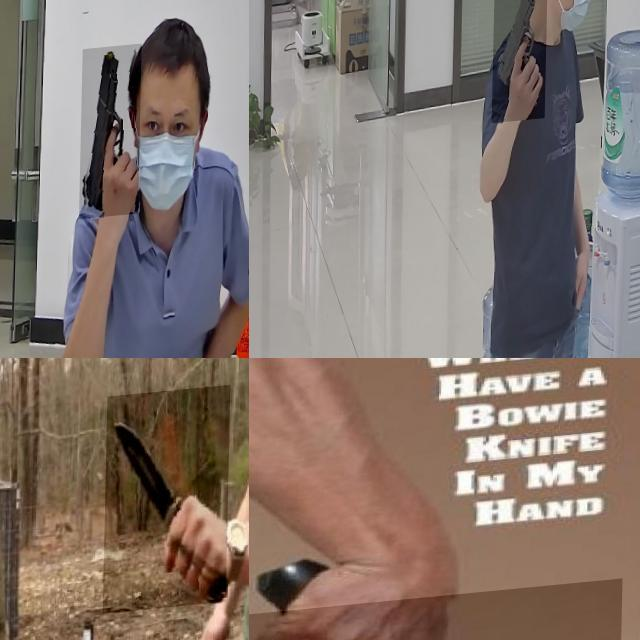-: (105, 390, 232, 617)
gun-knife-thesis - v11 Yolov5 augmented: (81, 52, 143, 226), (492, 0, 548, 130)
